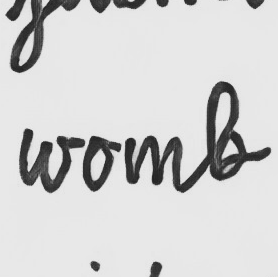b: (201, 79, 251, 183)
m: (123, 134, 186, 189)
o: (80, 132, 115, 193)
w: (16, 126, 76, 194)
